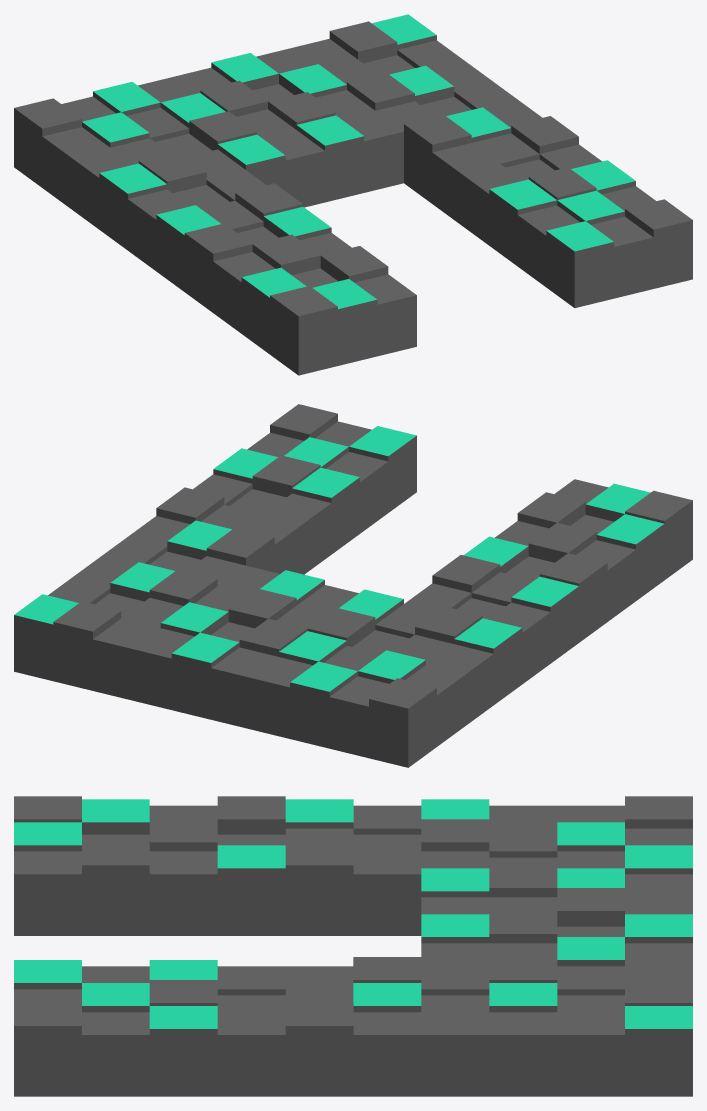
File: Arche-Prog.FBX
The picture shows the model from 3 angles, top to bottom: view 1: azimuth 30°, elevation 25°; view 2: azimuth 150°, elevation 25°; view 3: azimuth 270°, elevation 25°; orthographic projection. The views are drawn at different scales.
Parts seen in each view (by area): view 1: Box003; view 2: Box003; view 3: Box003.
Part boxes in pixels (x1,y1,x2,y2): Box003: [14, 14, 692, 375]; Box003: [14, 404, 692, 767]; Box003: [14, 796, 692, 1096].
Size of the model in its own units: 203 by 29.21 by 254.
